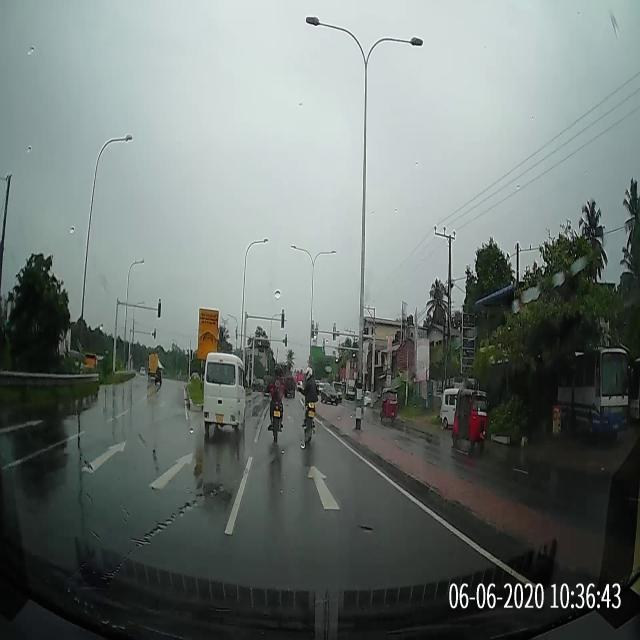Strelka vpered: (147, 451, 194, 492), (79, 439, 127, 475), (307, 463, 341, 511)
